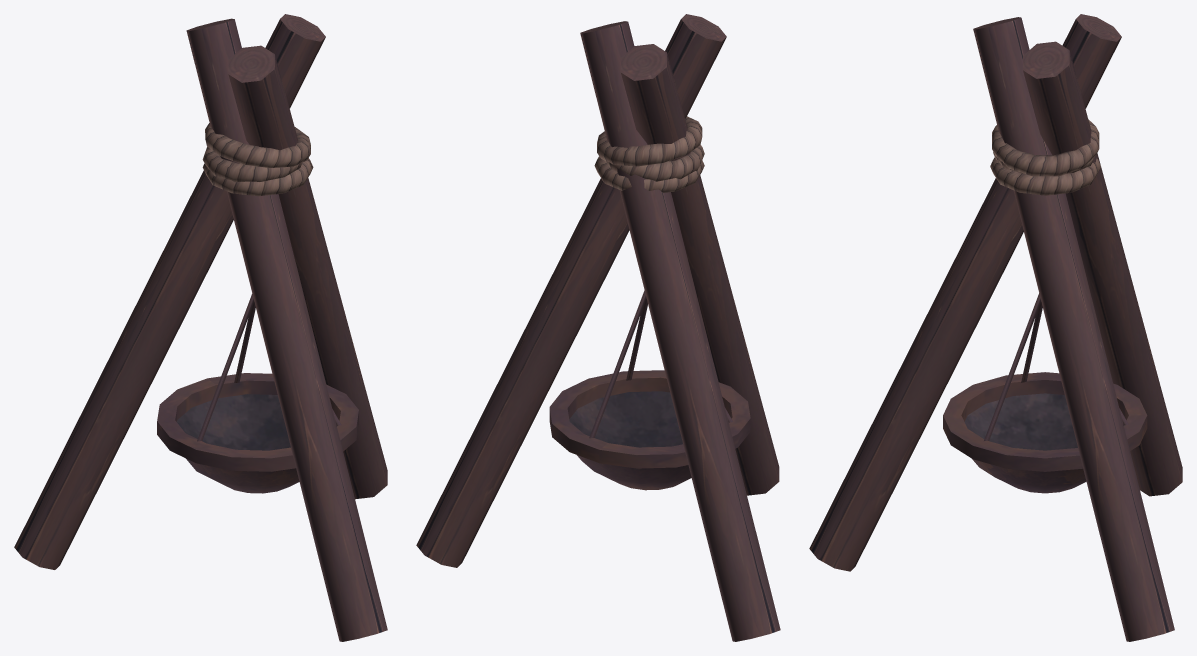
The model's file is Brazier_b.FBX.
3 renders of one model, left to right at view 1: azimuth 30°, elevation 25°; view 2: azimuth 150°, elevation 25°; view 3: azimuth 270°, elevation 25°, orthographic.
Visible parts, largest first — view 1: Cylinder012; view 2: Cylinder012; view 3: Cylinder012.
Part boxes in pixels (x1,y1,x2,y2): Cylinder012: (14,14,387,641); Cylinder012: (416,14,780,641); Cylinder012: (809,14,1182,641).
Size of the model in its own units: 1.79 by 2.53 by 1.59.
Materials: 1 (1 with a texture image).
